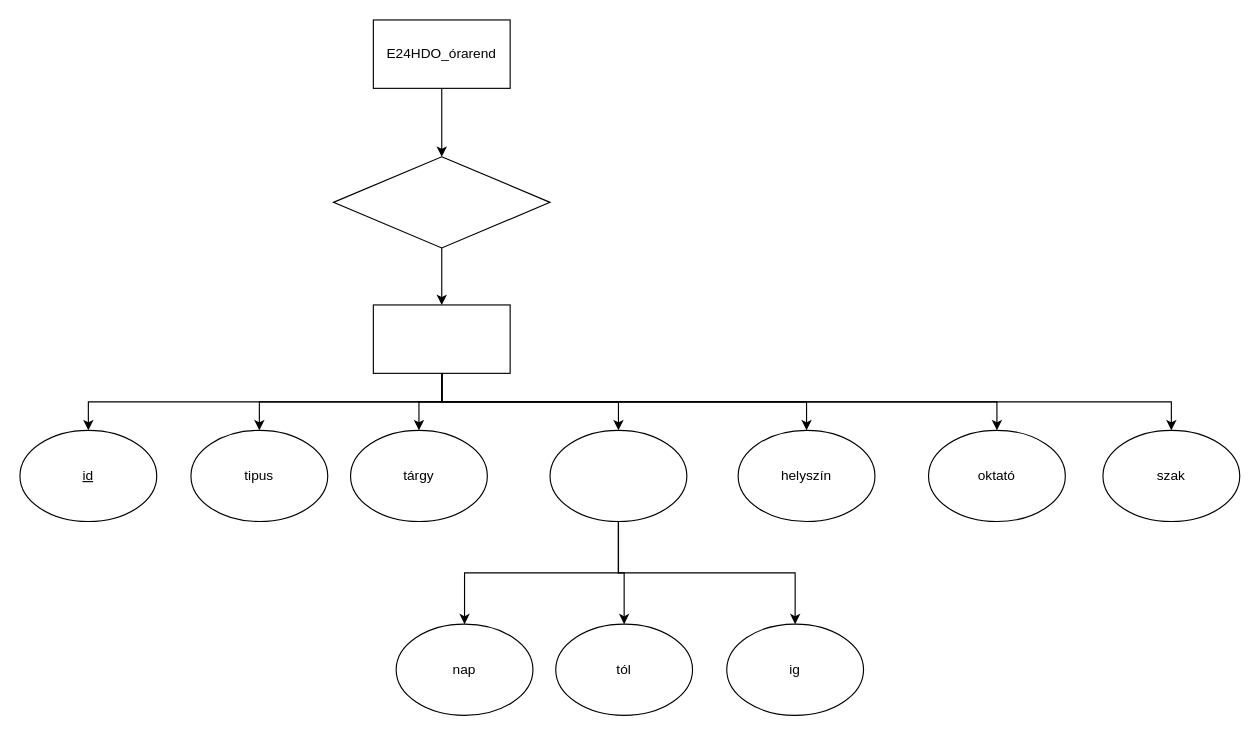
The diagram is 1260 pixels wide and 735 high, and some of its shapes have lost their labels. Each missing label, with the box of its shape:
E24HDO-0: (332, 156, 550, 248)
időpont: (549, 429, 687, 522)
óra: (372, 304, 510, 373)
